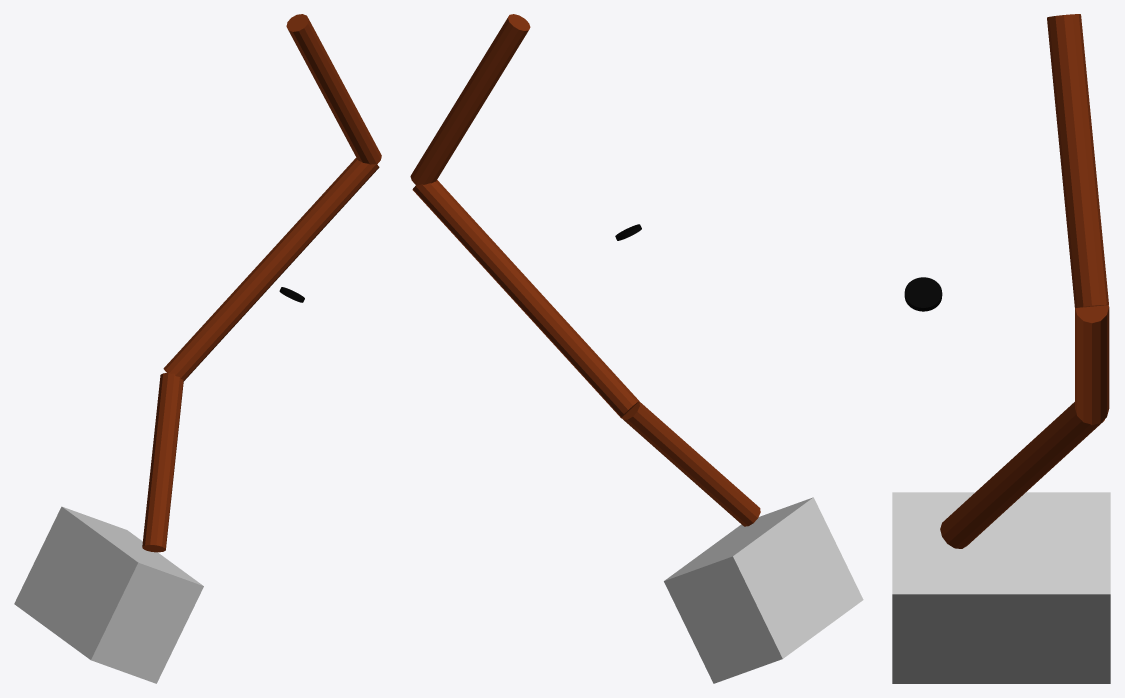
The model's file is earthing_loose.obj.
3 renders of one model, left to right at view 1: azimuth 30°, elevation 25°; view 2: azimuth 150°, elevation 25°; view 3: azimuth 270°, elevation 25°, orthographic. The views are drawn at different scales.
Parts seen in each view (by area): view 1: earthing_loose; view 2: earthing_loose; view 3: earthing_loose.
Part boxes in pixels (left/top/right/bottom): earthing_loose: left=14, top=14, right=381, bottom=683; earthing_loose: left=410, top=14, right=863, bottom=683; earthing_loose: left=892, top=14, right=1110, bottom=683.
Bounding box in the file's own units: 0.3782 × 0.5763 × 0.14.
